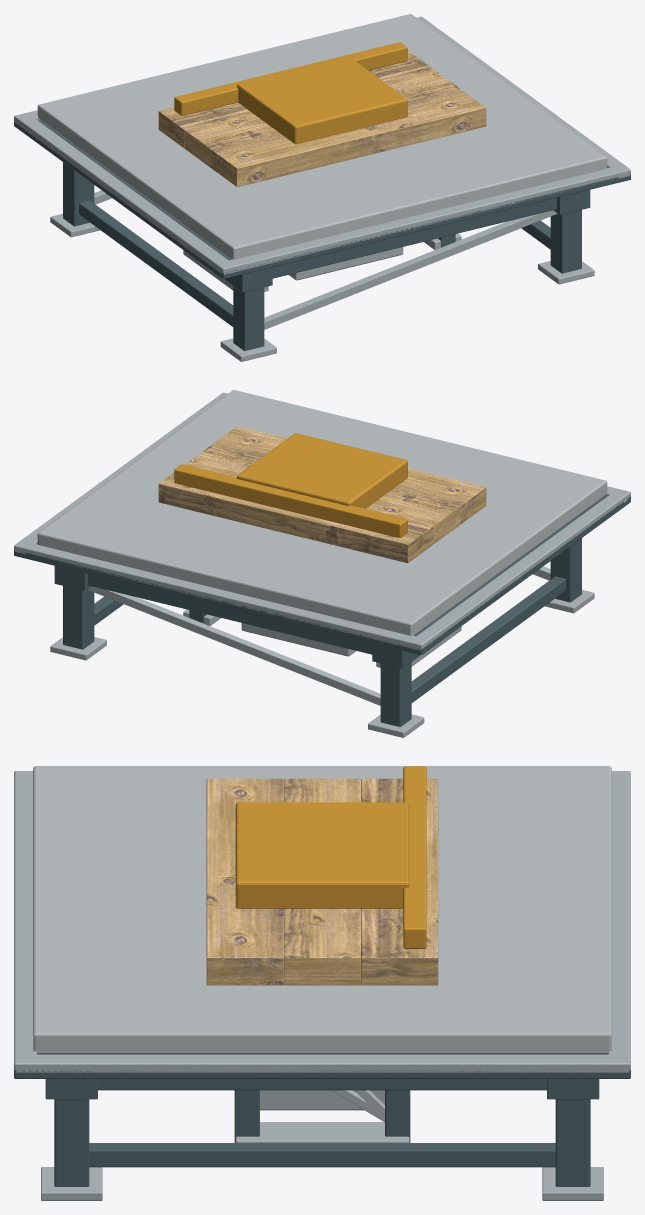
File: static-craft-v1.glb
The picture shows the model from 3 angles, top to bottom: view 1: azimuth 30°, elevation 25°; view 2: azimuth 150°, elevation 25°; view 3: azimuth 270°, elevation 25°; orthographic projection. The views are drawn at different scales.
Visible parts, largest first — view 1: Uninterrupted inspection deck, Grain-aligned thick bench board.005, Amber operator cap, Folded tray end edge.001, Inspection tray bearing plate, Folded tray side edge, Grain-aligned thick bench board.004, Under-tray diagonal tie.001, Transverse RHS rail.001, Lower leg stretcher, Retained amber rear work stop.001, Grain-aligned thick bench board.003 (+10 smaller); view 2: Uninterrupted inspection deck, Amber operator cap, Grain-aligned thick bench board.003, Folded tray end edge, Retained amber rear work stop.001, Inspection tray bearing plate, Grain-aligned thick bench board.005, Folded tray side edge, Grain-aligned thick bench board.004, Under-tray diagonal tie, Transverse RHS rail, Lower leg stretcher (+10 smaller); view 3: Uninterrupted inspection deck, Amber operator cap, Lower leg stretcher.001, Folded tray side edge.001, Grain-aligned thick bench board.005, Grain-aligned thick bench board.003, Grain-aligned thick bench board.004, Folded tray end edge.001, Folded tray end edge, Longitudinal RHS rail.001, Inspection tray bearing plate, Retained amber rear work stop.001 (+12 smaller).
Boxes of the visible parts, x1=… form: Uninterrupted inspection deck: x1=37, y1=14, x2=607, y2=259; Grain-aligned thick bench board.005: x1=211, y1=88, x2=486, y2=186; Amber operator cap: x1=237, y1=57, x2=407, y2=144; Folded tray end edge.001: x1=216, y1=164, x2=630, y2=274; Inspection tray bearing plate: x1=14, y1=120, x2=630, y2=278; Folded tray side edge: x1=14, y1=115, x2=234, y2=274; Grain-aligned thick bench board.004: x1=185, y1=69, x2=459, y2=167; Under-tray diagonal tie.001: x1=264, y1=210, x2=557, y2=329; Transverse RHS rail.001: x1=272, y1=198, x2=556, y2=278; Lower leg stretcher: x1=79, y1=200, x2=233, y2=326; Retained amber rear work stop.001: x1=174, y1=42, x2=407, y2=115; Grain-aligned thick bench board.003: x1=158, y1=50, x2=433, y2=148; Uninterrupted inspection deck: x1=37, y1=390, x2=607, y2=635; Amber operator cap: x1=237, y1=433, x2=407, y2=508; Grain-aligned thick bench board.003: x1=158, y1=468, x2=433, y2=562; Folded tray end edge: x1=15, y1=540, x2=429, y2=650; Retained amber rear work stop.001: x1=174, y1=464, x2=407, y2=537; Inspection tray bearing plate: x1=14, y1=496, x2=630, y2=654; Grain-aligned thick bench board.005: x1=211, y1=426, x2=486, y2=524; Folded tray side edge: x1=409, y1=489, x2=630, y2=650; Grain-aligned thick bench board.004: x1=185, y1=445, x2=459, y2=543; Under-tray diagonal tie: x1=87, y1=586, x2=380, y2=705; Transverse RHS rail: x1=88, y1=574, x2=372, y2=654; Lower leg stretcher: x1=411, y1=576, x2=565, y2=702; Uninterrupted inspection deck: x1=33, y1=766, x2=611, y2=1053; Amber operator cap: x1=235, y1=802, x2=409, y2=908; Lower leg stretcher.001: x1=89, y1=1143, x2=555, y2=1167; Folded tray side edge.001: x1=14, y1=1054, x2=630, y2=1072; Grain-aligned thick bench board.005: x1=206, y1=778, x2=283, y2=985; Grain-aligned thick bench board.003: x1=361, y1=778, x2=438, y2=985; Grain-aligned thick bench board.004: x1=284, y1=778, x2=360, y2=985; Folded tray end edge.001: x1=14, y1=771, x2=36, y2=1072; Folded tray end edge: x1=608, y1=771, x2=630, y2=1072; Longitudinal RHS rail.001: x1=98, y1=1079, x2=546, y2=1090; Inspection tray bearing plate: x1=14, y1=1054, x2=630, y2=1078; Retained amber rear work stop.001: x1=403, y1=766, x2=426, y2=948.
Bounding box in the file's own units: 3.6 × 1.33 × 3.2.
6 materials, 1 textured.
